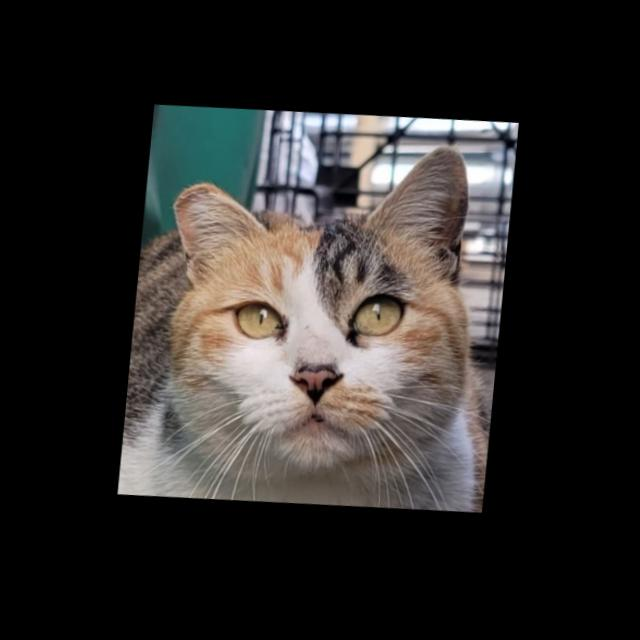animals: (146, 119, 487, 498)
